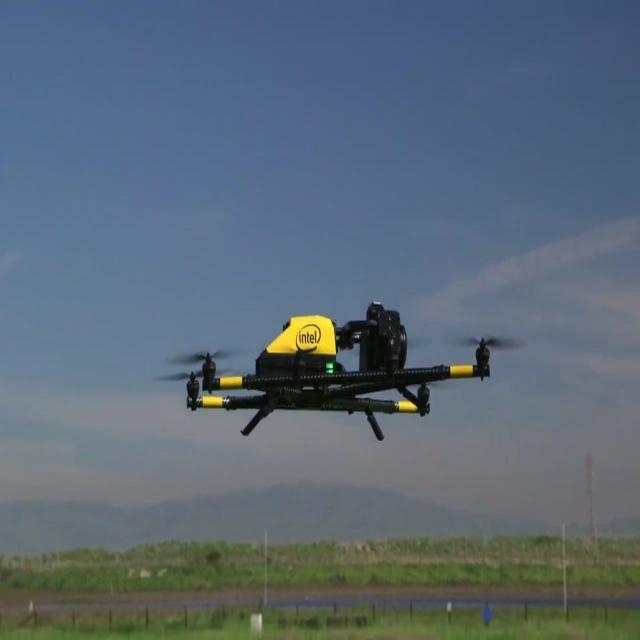drone: (154, 301, 526, 445)
